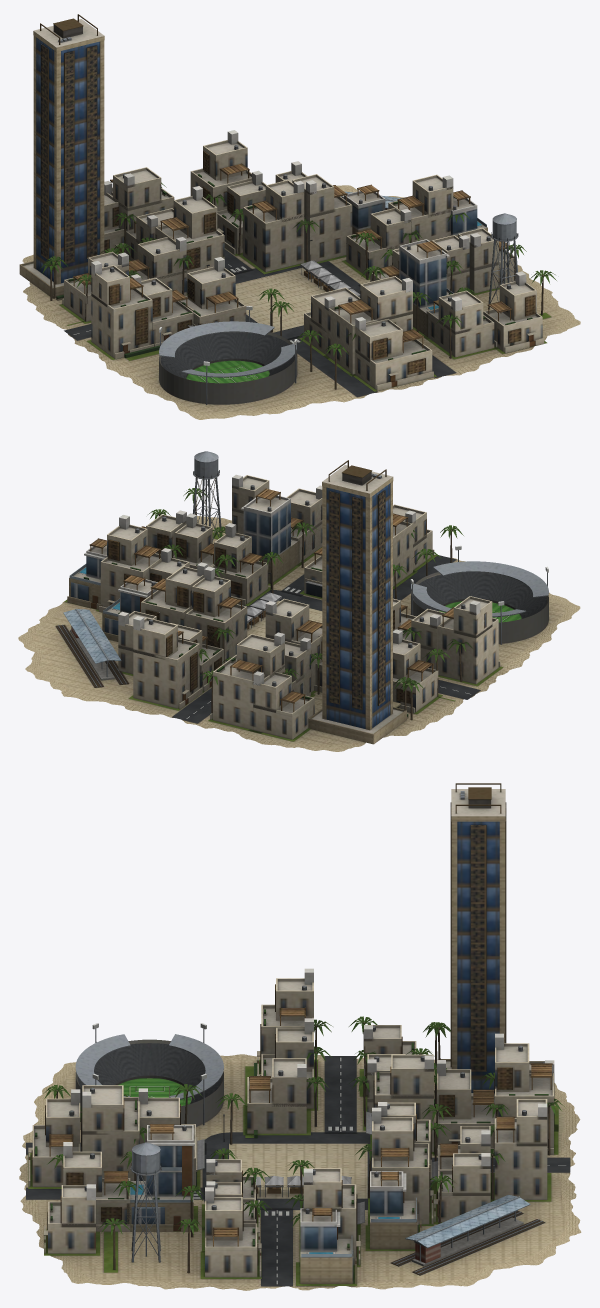
Rendered from modern-town-big-a-levant.glb.
The picture shows the model from 3 angles, top to bottom: view 1: azimuth 30°, elevation 25°; view 2: azimuth 150°, elevation 25°; view 3: azimuth 270°, elevation 25°; orthographic projection. The views are drawn at different scales.
Parts seen in each view (by area): view 1: LOD0; view 2: LOD0; view 3: LOD0.
Boxes of the visible parts, box(x1,y1,x2,y2) form: LOD0: box(19, 14, 580, 419); LOD0: box(18, 451, 580, 751); LOD0: box(19, 783, 581, 1290).
Size of what is drawn, in the model's own units: 8.04 by 4.65 by 8.09.
3 materials, 3 textured.
